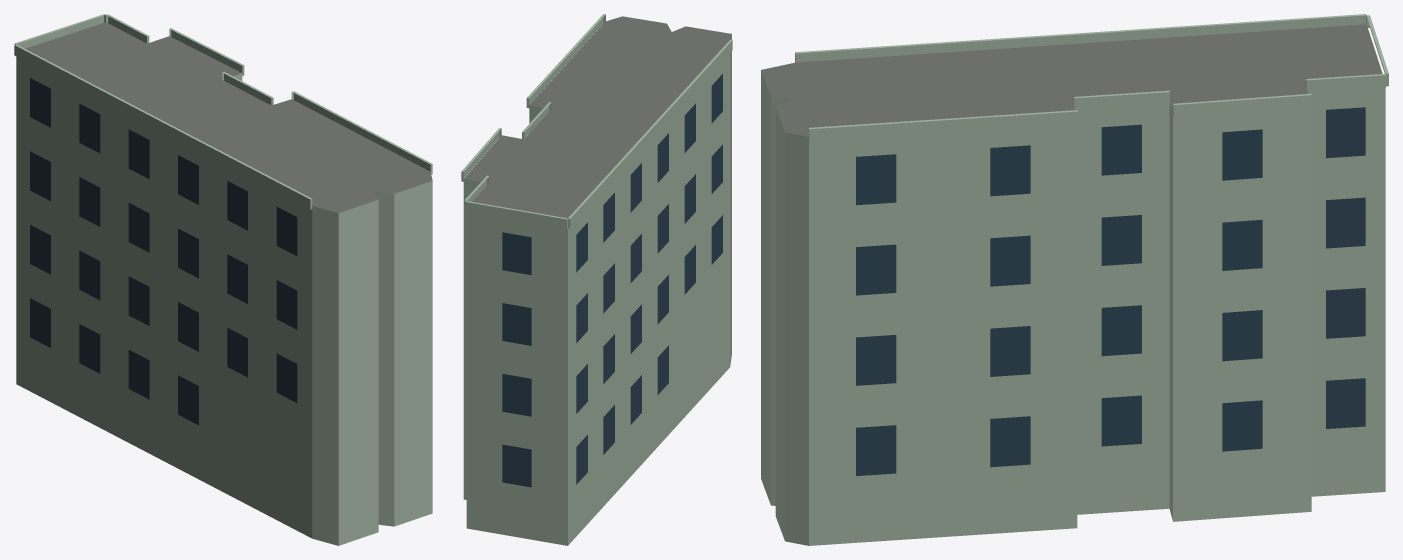
3 renders of one model, left to right at view 1: azimuth 30°, elevation 25°; view 2: azimuth 150°, elevation 25°; view 3: azimuth 270°, elevation 25°, orthographic. The views are drawn at different scales.
Visible parts, largest first — view 1: Footprint 0 / surface 2, Footprint 0 / surface 1, Inset glazing, Facade bay volumes; view 2: Footprint 0 / surface 2, Footprint 0 / surface 1, Inset glazing, Facade bay volumes; view 3: Footprint 0 / surface 2, Inset glazing, Footprint 0 / surface 1, Facade bay volumes.
Part boxes in pixels (x1,y1,x2,y2): Footprint 0 / surface 2: [16, 56, 432, 545]; Footprint 0 / surface 1: [25, 22, 432, 212]; Inset glazing: [30, 78, 297, 425]; Facade bay volumes: [14, 14, 432, 209]; Footprint 0 / surface 2: [463, 35, 731, 545]; Footprint 0 / surface 1: [464, 16, 731, 218]; Inset glazing: [502, 74, 722, 487]; Facade bay volumes: [461, 14, 732, 229]; Footprint 0 / surface 2: [761, 70, 1385, 545]; Inset glazing: [856, 107, 1365, 475]; Footprint 0 / surface 1: [761, 24, 1382, 136]; Facade bay volumes: [795, 14, 1388, 141].
Size of the model in its own units: 9.7 by 16.41 by 22.33.
